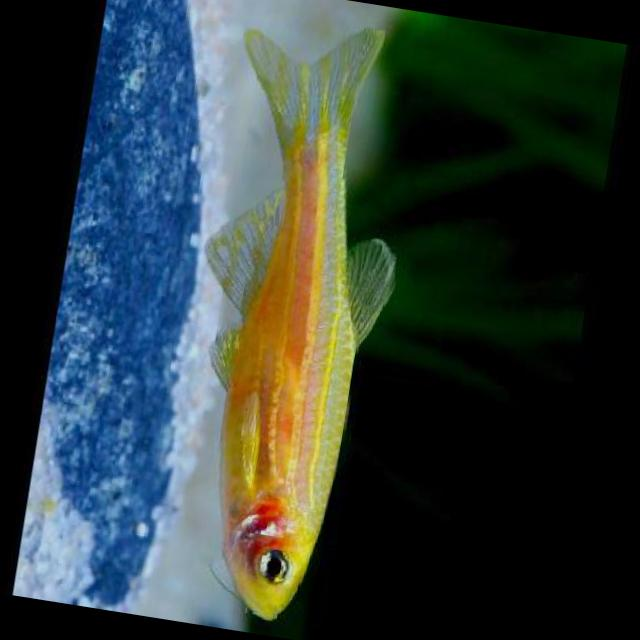ZebraFish: (133, 0, 441, 637)
